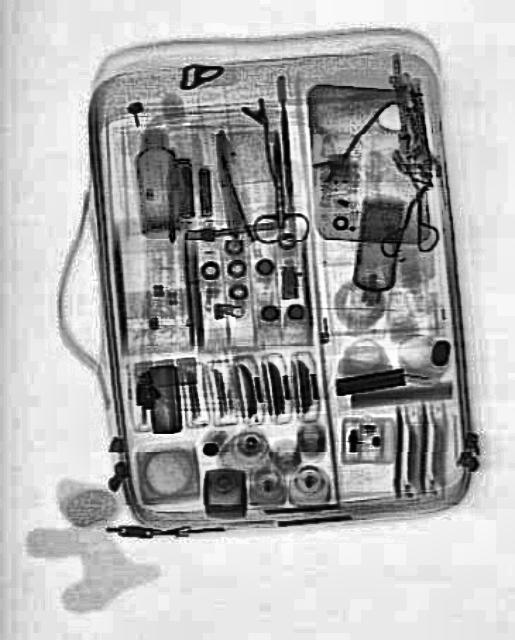Scissors: (244, 128, 308, 245)
